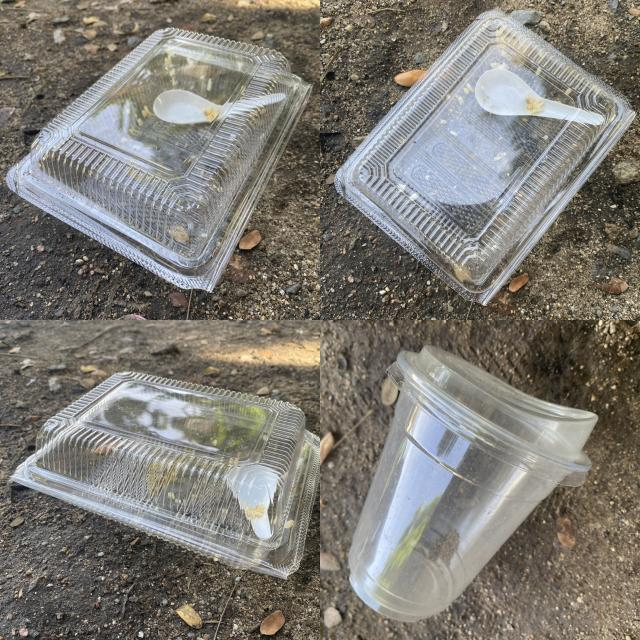Single-Use-Plastic: (335, 10, 635, 305), (6, 29, 311, 289), (349, 346, 598, 621), (11, 372, 319, 578), (475, 69, 604, 124), (154, 90, 286, 123), (228, 465, 279, 539)
